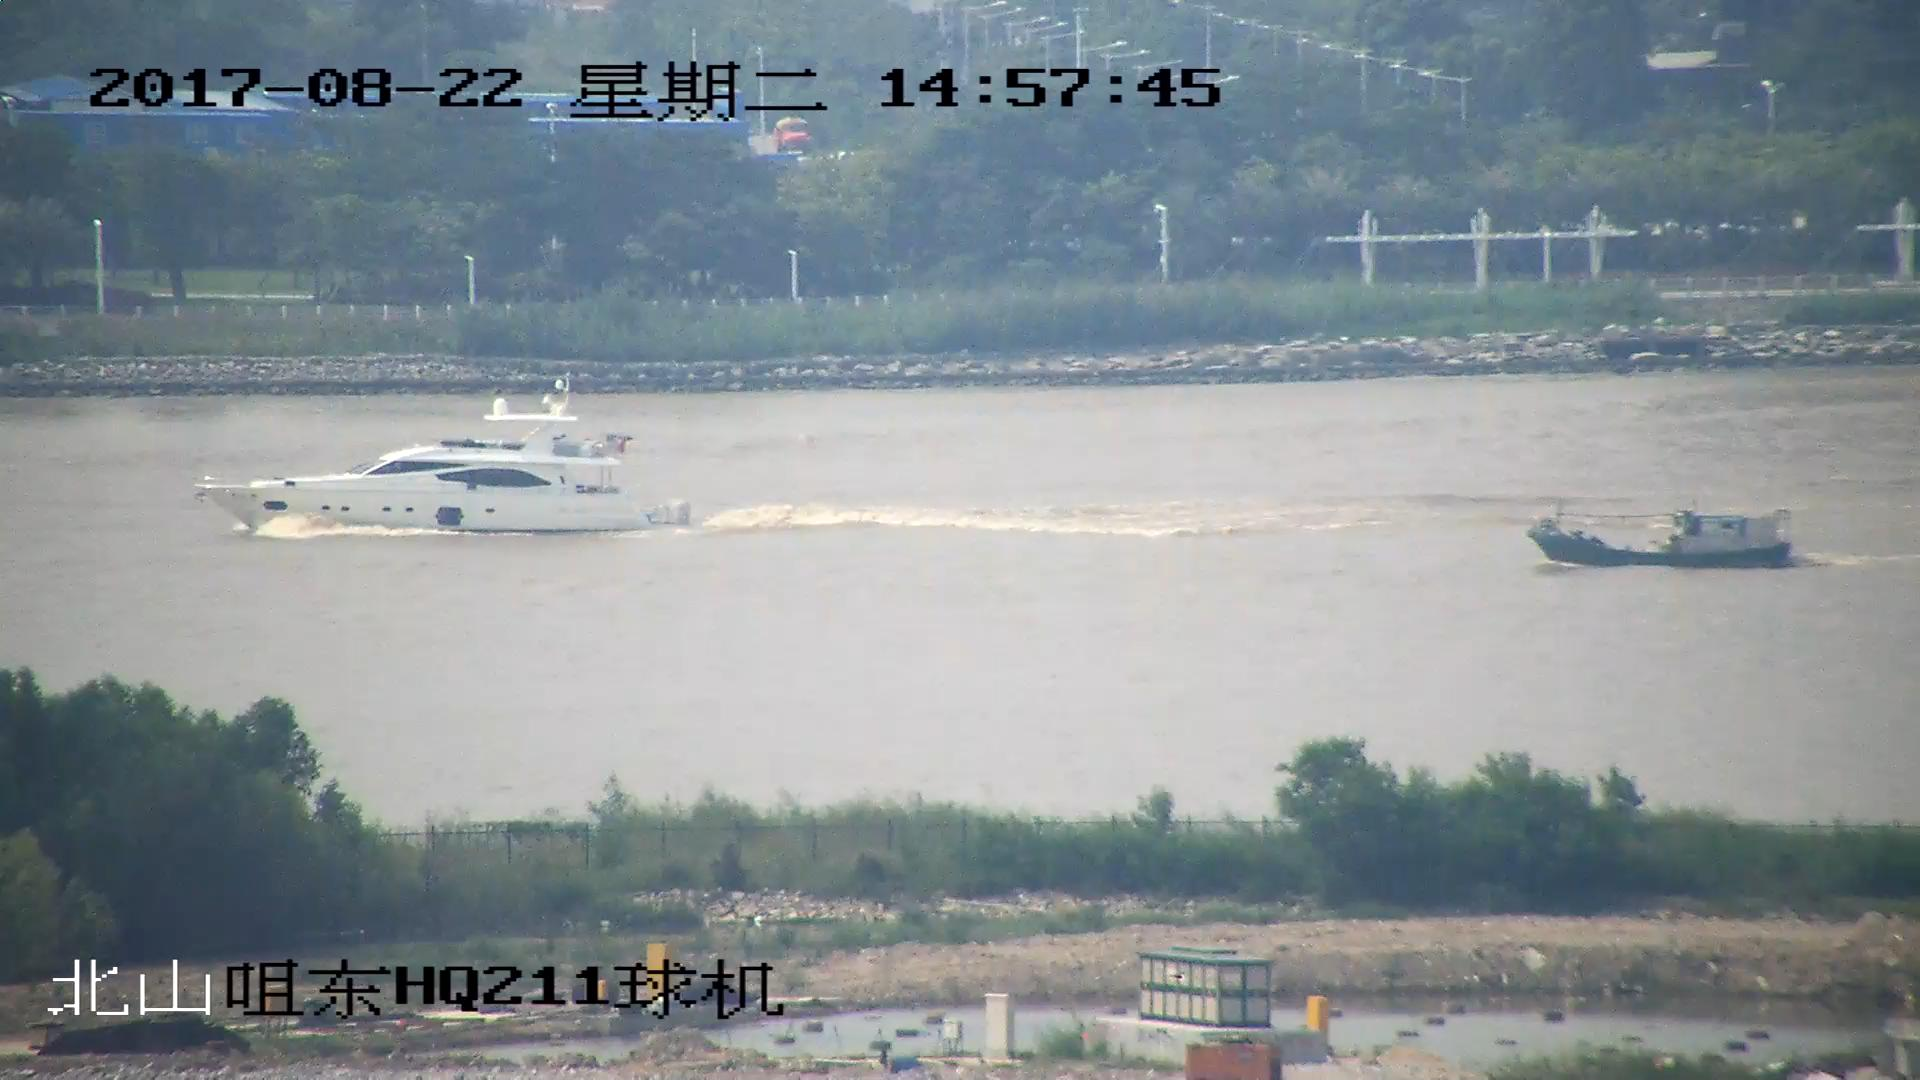fishing boat: (1522, 505, 1800, 571)
passenger ship: (190, 381, 680, 537)
